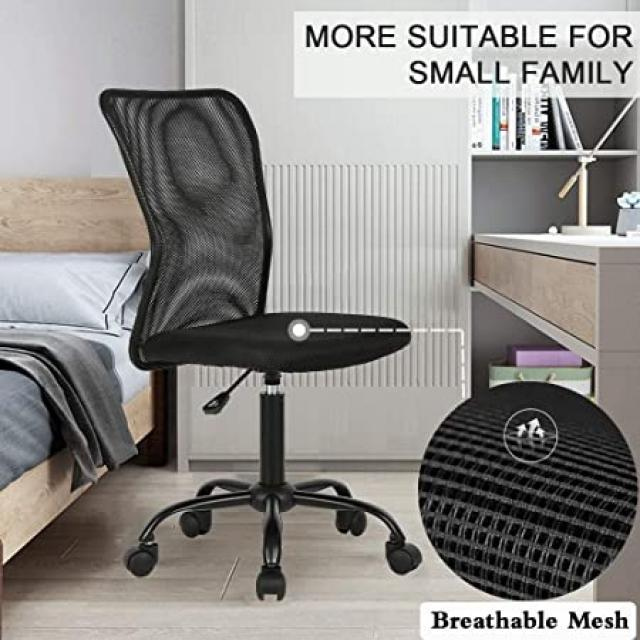chair: (97, 82, 432, 602)
